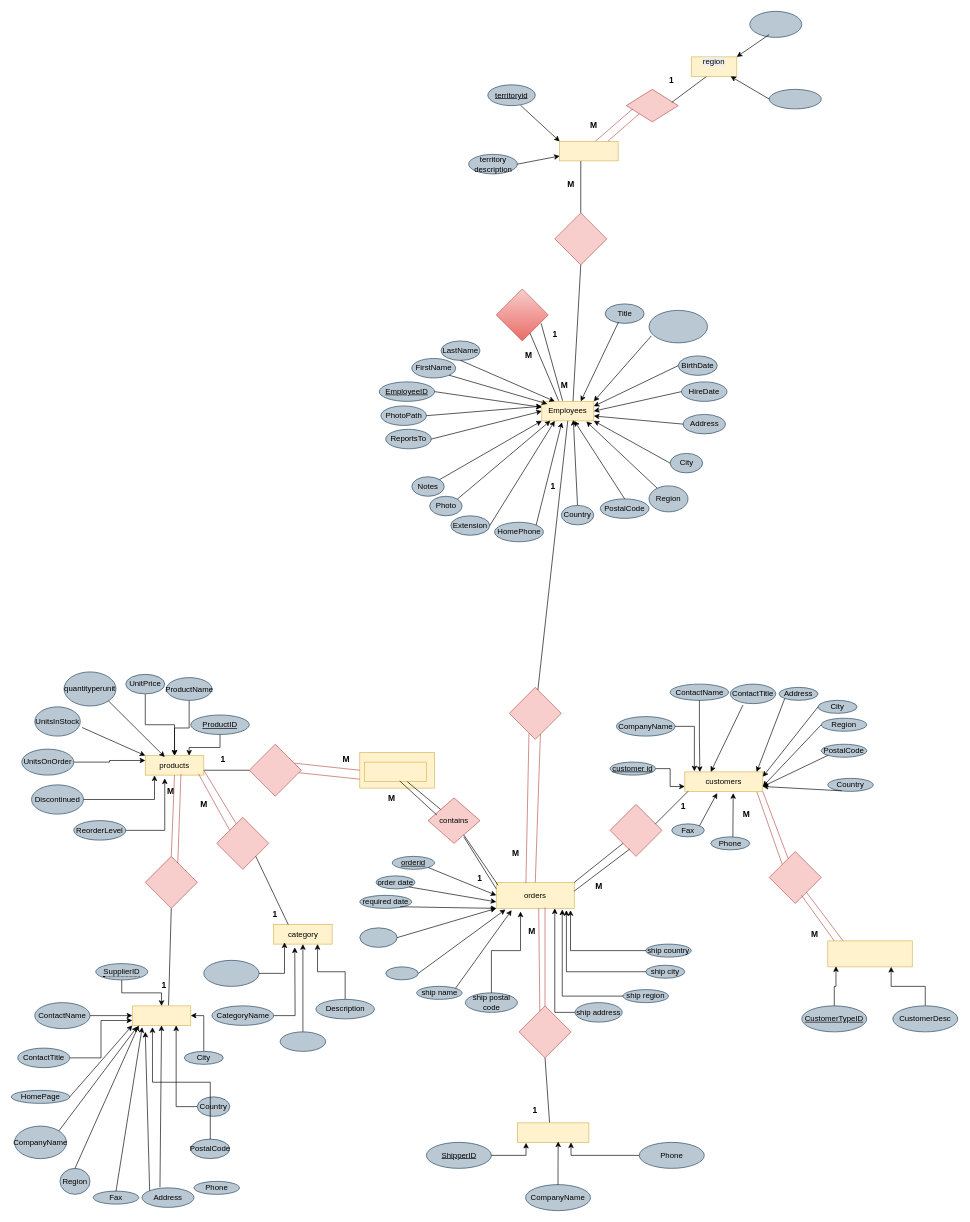
This 970x1222 diagram has some shape labels left out. Here are the shapes that lost their labels. From the top down, the box of each, then its label:
(749, 11, 802, 37): region description
(626, 89, 678, 122): belongs to
(769, 89, 821, 109): regionid
(559, 141, 618, 161): territory
(554, 212, 607, 265): works in
(496, 288, 548, 341): supervise
(648, 310, 708, 343): TitleOfCourtesy
(509, 687, 561, 739): handle
(249, 744, 301, 796): references
(364, 761, 426, 782): order details
(216, 817, 269, 869): belong to
(609, 804, 662, 856): assigned by
(145, 856, 197, 908): have
(769, 851, 821, 904): belong
(359, 927, 397, 947): shipped date
(827, 940, 912, 967): CustomerDemographics
(203, 960, 259, 986): CategoryID
(385, 966, 418, 980): freight
(132, 1005, 191, 1025): suppliers
(518, 1005, 571, 1058): shipped by
(280, 1031, 326, 1051): Picture
(517, 1122, 589, 1142): shippers
